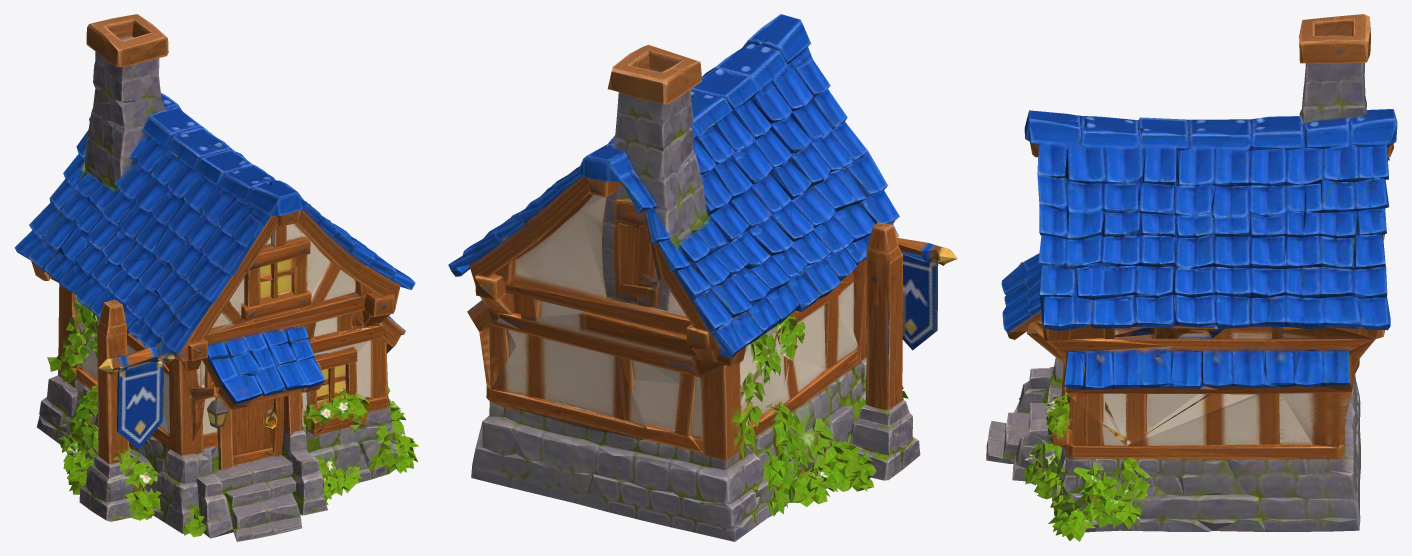
Rendered from starter_house.glb.
3 views of the same model, side by side, from view 1: azimuth 30°, elevation 25°; view 2: azimuth 150°, elevation 25°; view 3: azimuth 270°, elevation 25° (orthographic). The views are drawn at different scales.
Visible parts, largest first — view 1: output_unwrapped; view 2: output_unwrapped; view 3: output_unwrapped.
Part boxes in pixels (x1,y1,x2,y2): output_unwrapped: (14,14,418,541); output_unwrapped: (448,14,957,541); output_unwrapped: (986,14,1397,541).
Size of what is drawn, in the model's own units: 0.8633 by 1 by 0.874.
1 material, 1 textured.
